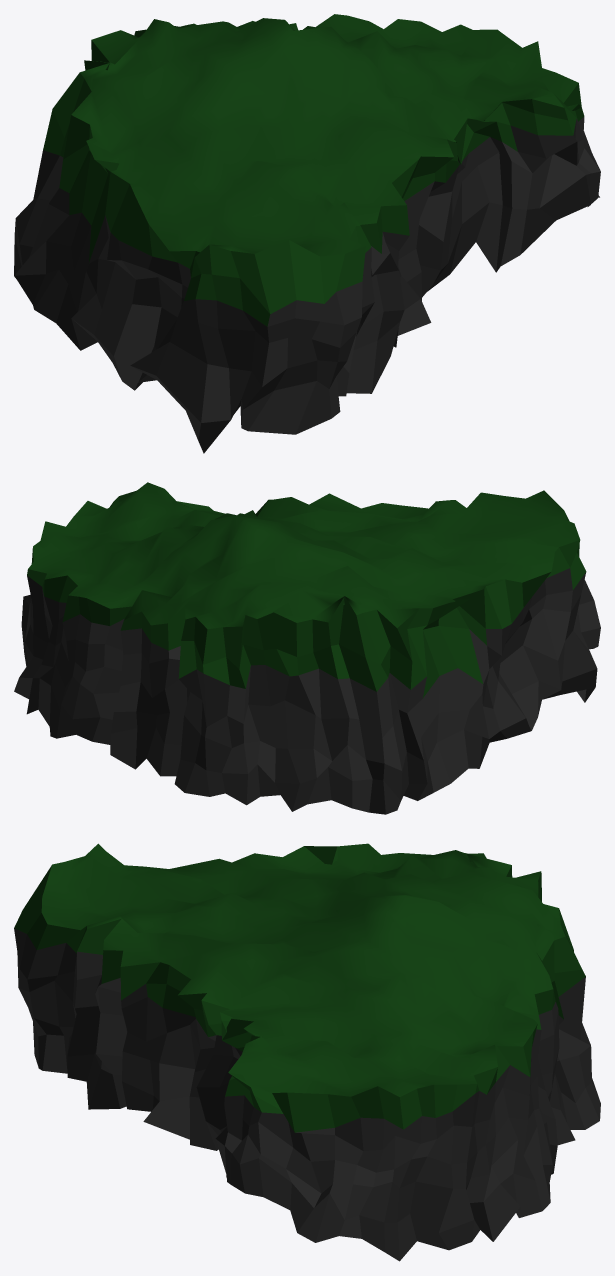
Rendered from mountain1.fbx.
3 renders of one model, top to bottom at view 1: azimuth 30°, elevation 25°; view 2: azimuth 150°, elevation 25°; view 3: azimuth 270°, elevation 25°, orthographic. The views are drawn at different scales.
Visible parts, largest first — view 1: mountain; view 2: mountain; view 3: mountain.
Part boxes in pixels (<box>): mountain: <box>14,14,600,453</box>; mountain: <box>14,482,600,814</box>; mountain: <box>14,843,600,1261</box>.
Bounding box in the file's own units: 10420 × 4929 × 9742.
